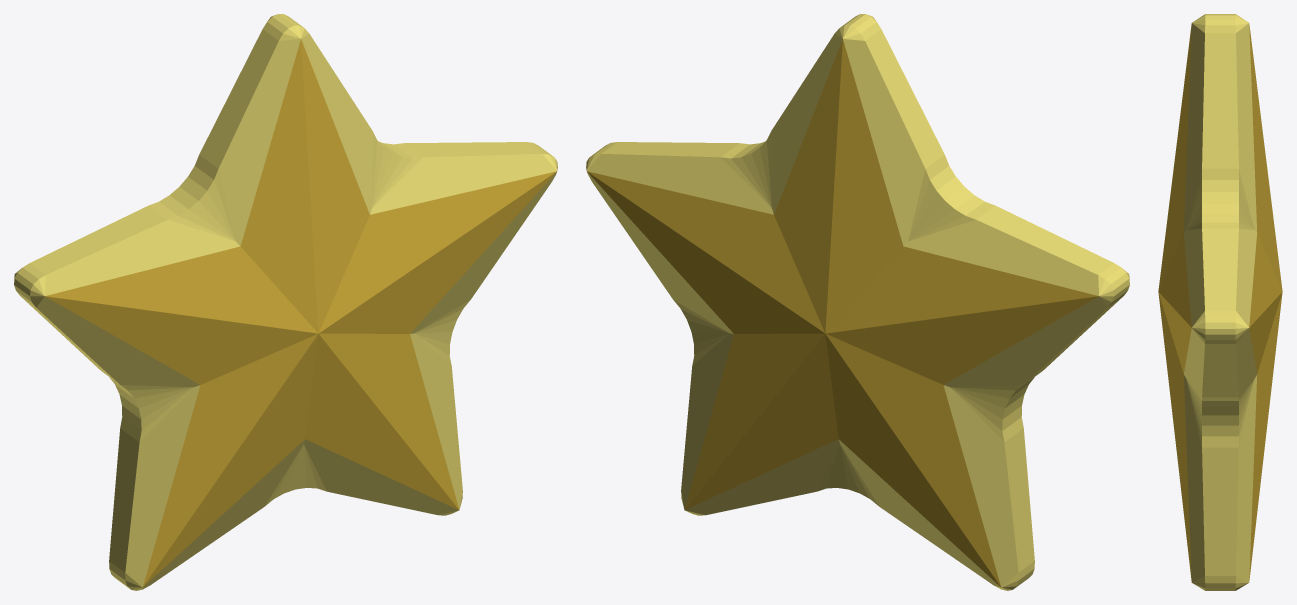
File: star.fbx
3 views of the same model, side by side, from view 1: azimuth 30°, elevation 25°; view 2: azimuth 150°, elevation 25°; view 3: azimuth 270°, elevation 25° (orthographic). The views are drawn at different scales.
Parts seen in each view (by area): view 1: star; view 2: star; view 3: star.
Boxes of the visible parts, x1,y1,x2,y2 form: star: [14, 14, 557, 590]; star: [586, 14, 1129, 590]; star: [1158, 14, 1282, 590].
Bounding box in the file's own units: 133 × 127 × 28.44.
